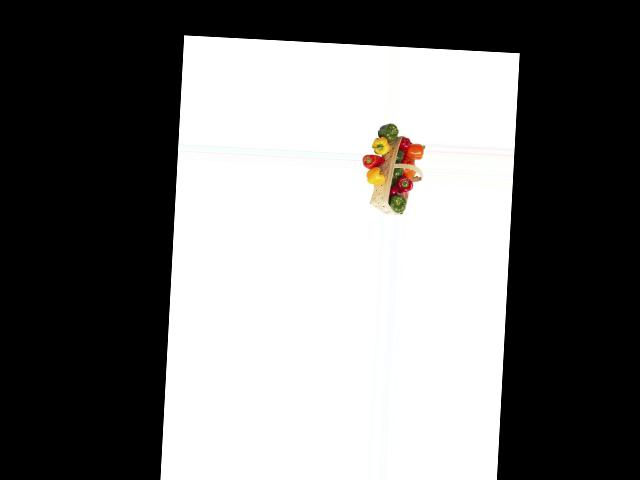bell_pepper: (389, 192, 407, 213)
